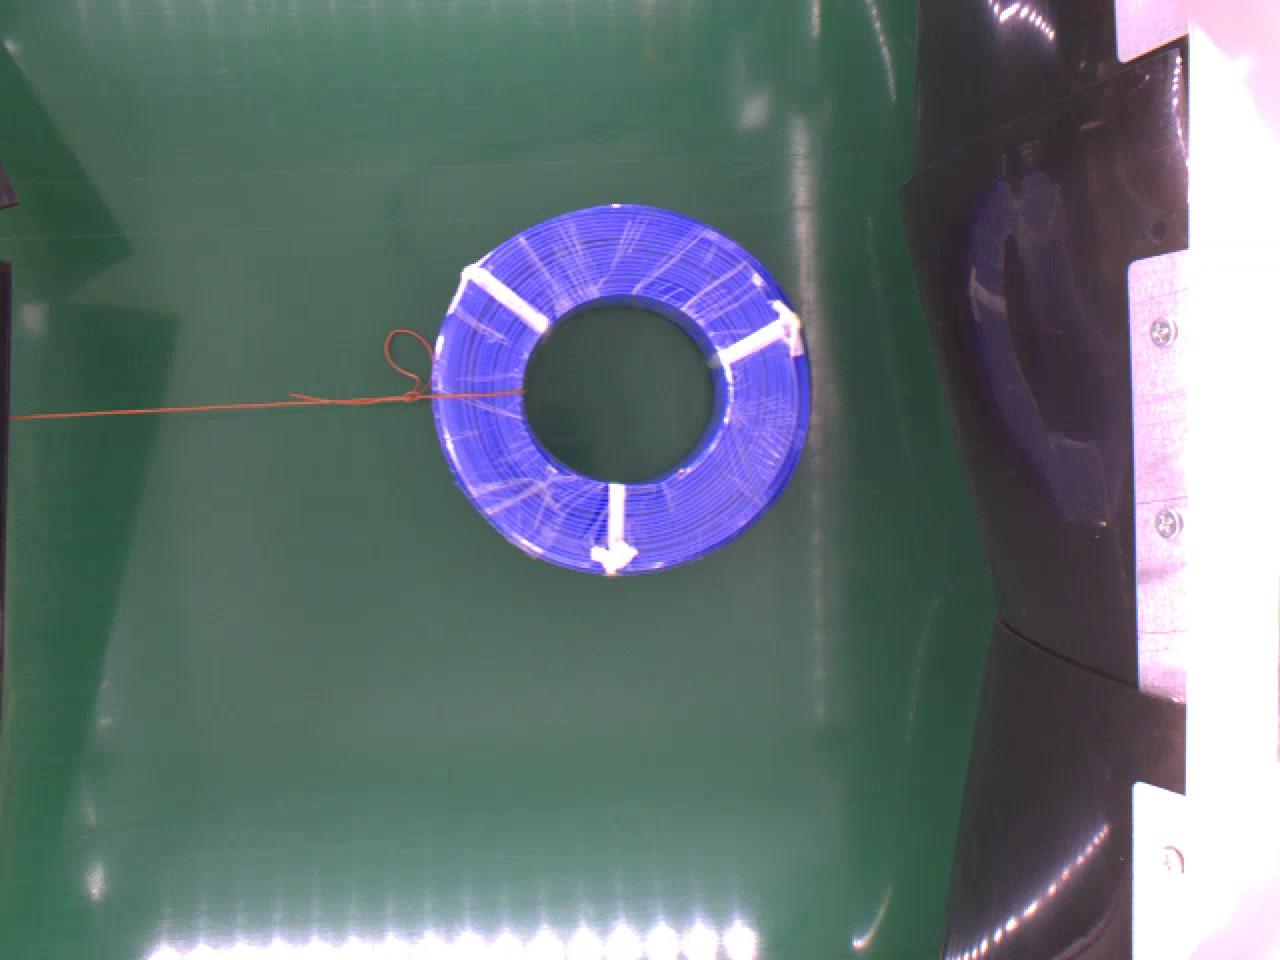blue: (424, 198, 816, 575)
